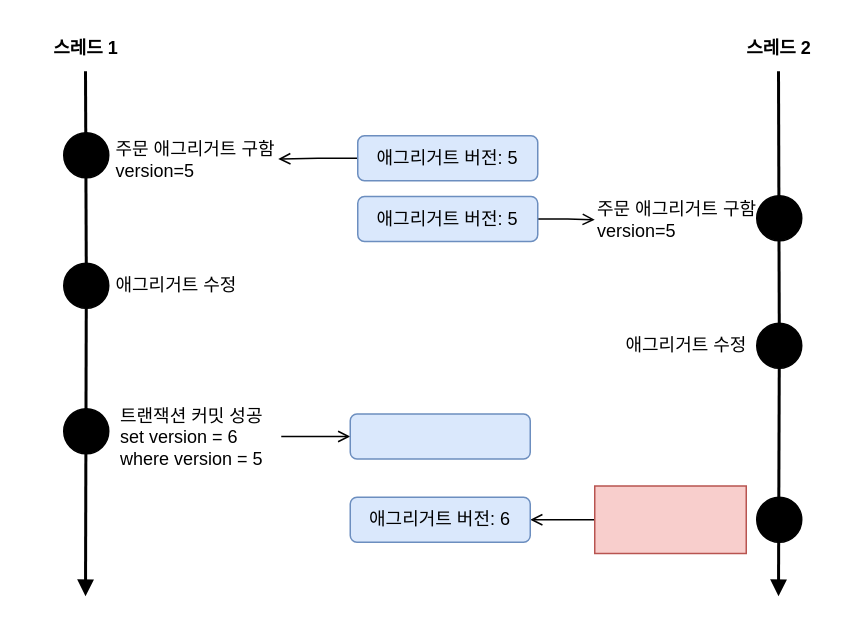
Image size: 864x635. Some labels were removed from this diagram. Each missing label, with the centre of its shape:
"애그리거트 버전: 5 → 6" goes at point 439,435.
"트랜잭션 커밋 실패 set version = 6 where version = 5" goes at point 669,519.
